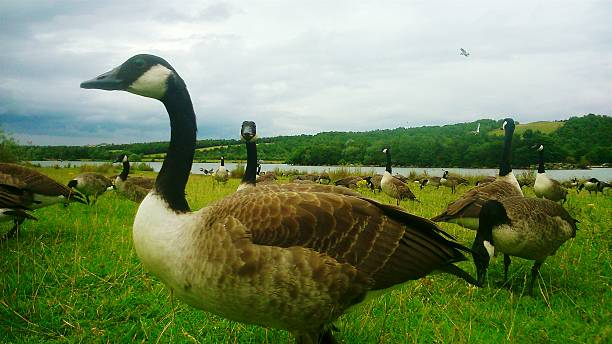goose: (75, 51, 475, 344), (472, 194, 583, 293), (434, 115, 520, 233), (1, 160, 70, 242), (377, 144, 423, 214), (112, 153, 156, 205), (532, 142, 568, 204), (64, 171, 113, 204), (437, 170, 471, 194), (574, 177, 608, 196), (334, 175, 376, 190), (213, 155, 229, 185), (419, 177, 434, 188), (567, 178, 580, 188)
